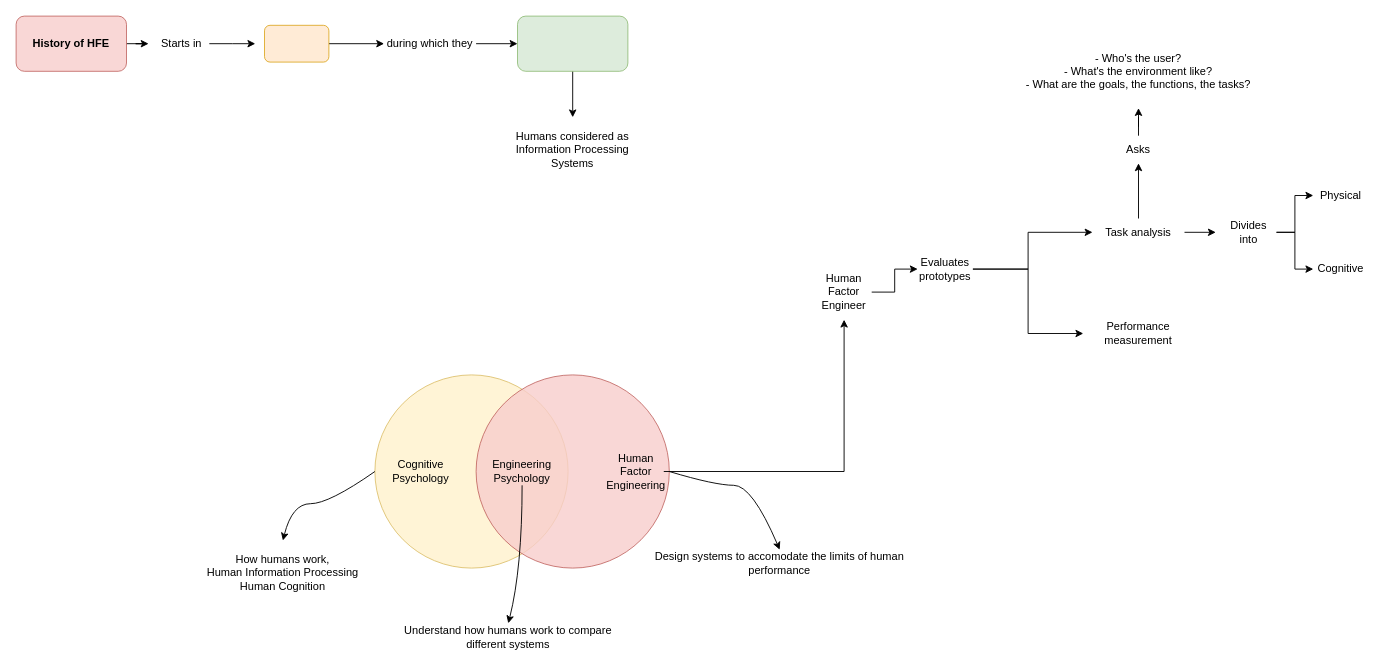
Some shapes in this 1385 by 667 pixel diagram are drawn without their labels. The shapes that lost their labels are listed below. From the top down, each one's box as (x1, y1, x2, y2) in pixels, then its label:
(264, 24, 329, 62): WW2
(517, 15, 628, 71): First designed the system, then found the right human
